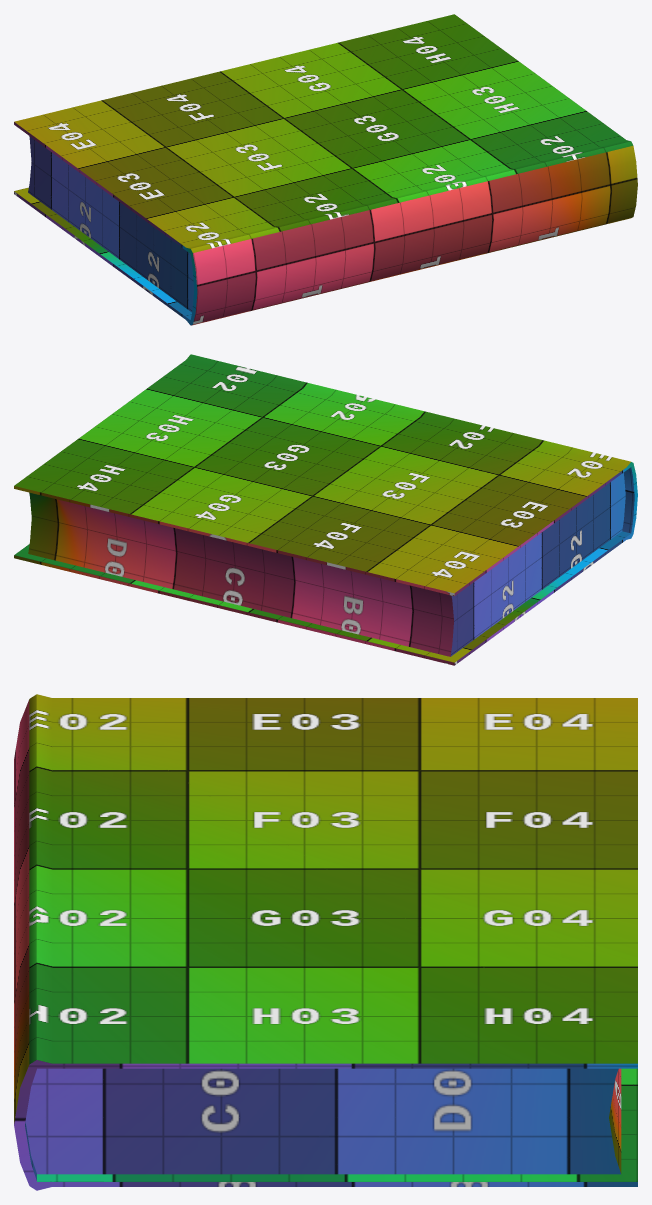
The model's file is BookBig_low.fbx.
3 views of the same model, one above another, from view 1: azimuth 30°, elevation 25°; view 2: azimuth 150°, elevation 25°; view 3: azimuth 270°, elevation 25° (orthographic). The views are drawn at different scales.
Parts seen in each view (by area): view 1: BookBig_low; view 2: BookBig_low; view 3: BookBig_low.
Part boxes in pixels (x1=…): BookBig_low: x1=14, y1=14, x2=637, y2=325; BookBig_low: x1=14, y1=354, x2=637, y2=665; BookBig_low: x1=14, y1=694, x2=637, y2=1190.
Bounding box in the file's own units: 26.45 × 4.42 × 19.07.
